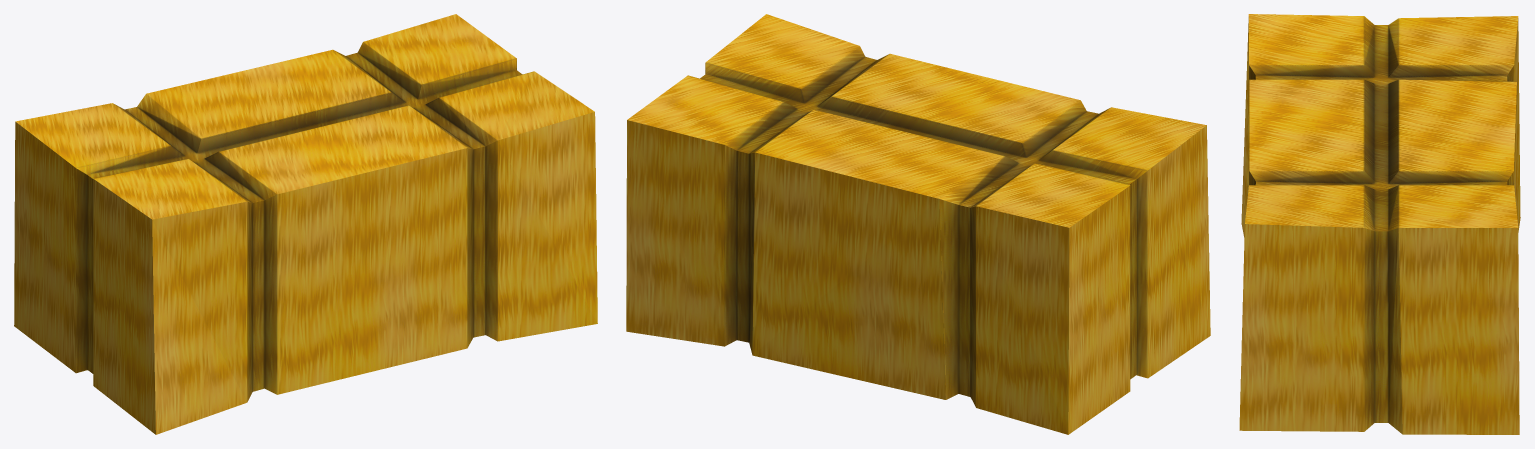
3 views of the same model, side by side, from view 1: azimuth 30°, elevation 25°; view 2: azimuth 150°, elevation 25°; view 3: azimuth 270°, elevation 25° (orthographic).
Parts seen in each view (by area): view 1: Props_BlockSquare_Mesh; view 2: Props_BlockSquare_Mesh; view 3: Props_BlockSquare_Mesh.
Boxes of the visible parts, x1,y1,x2,y2 form: Props_BlockSquare_Mesh: (14, 14, 597, 434); Props_BlockSquare_Mesh: (626, 14, 1210, 434); Props_BlockSquare_Mesh: (1239, 14, 1520, 434).
Bounding box in the file's own units: 62.86 × 29.2 × 35.26.
Materials: 1 (1 with a texture image).
